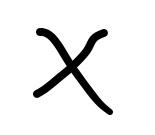mult: (33, 26, 112, 114)
